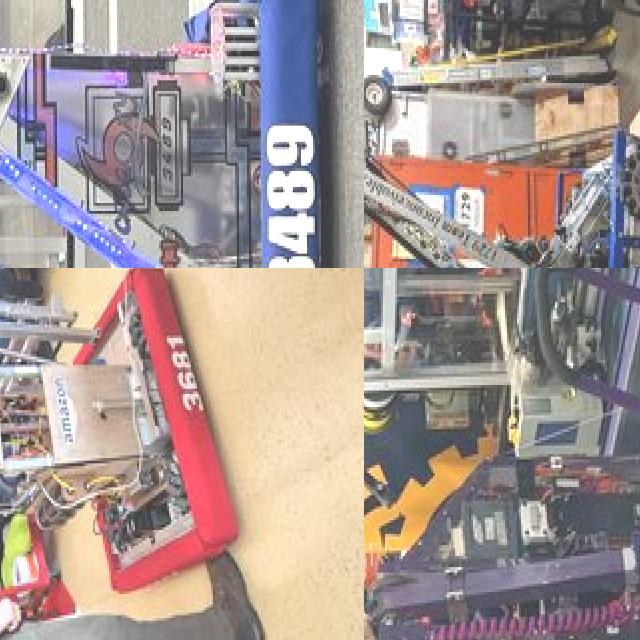FRC-Robots: (0, 0, 364, 268), (366, 354, 640, 640), (0, 268, 233, 597), (364, 57, 640, 268)
